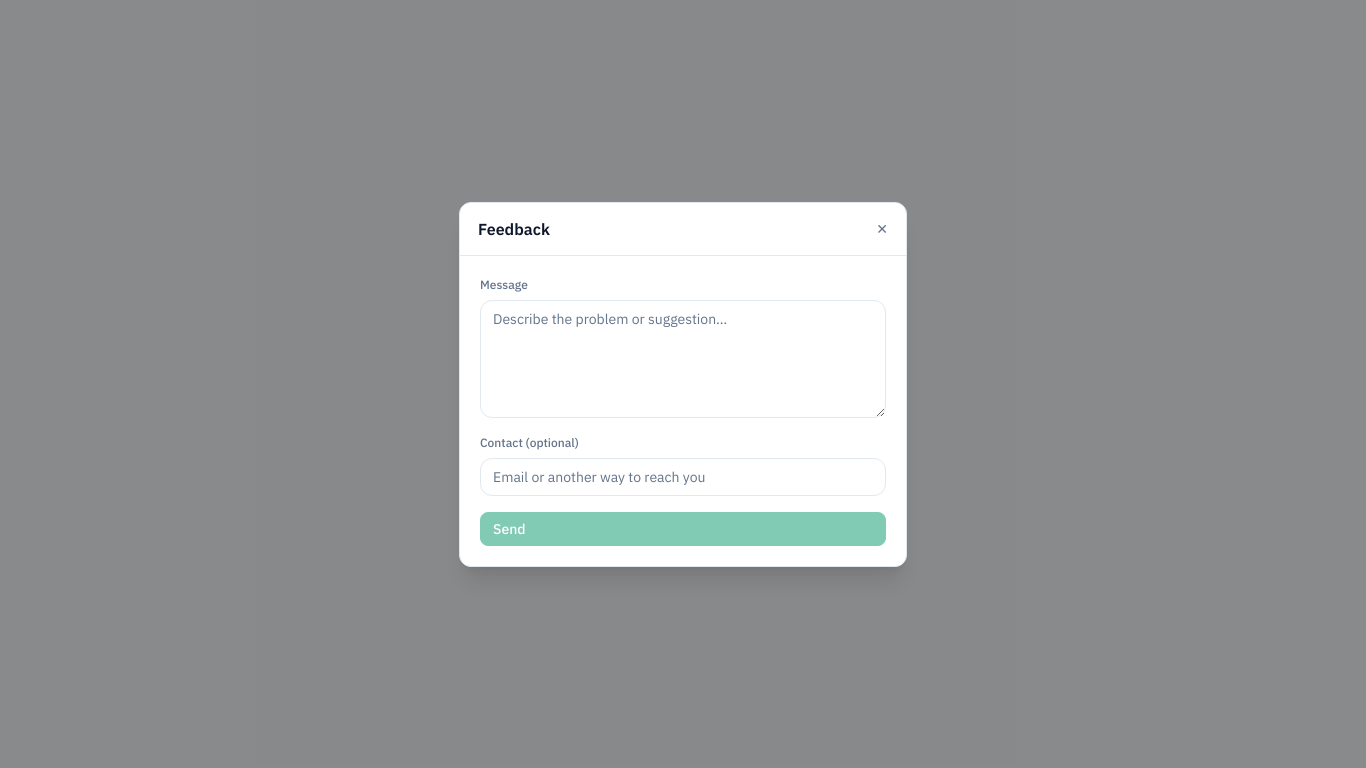
Test: FeedbackModal › sends the trimmed message with optional contact, then shows the sent state
Step 1. Type "  Excel export fails  " into the text box labelled "Message" → (683, 358), box [480,300,886,418]
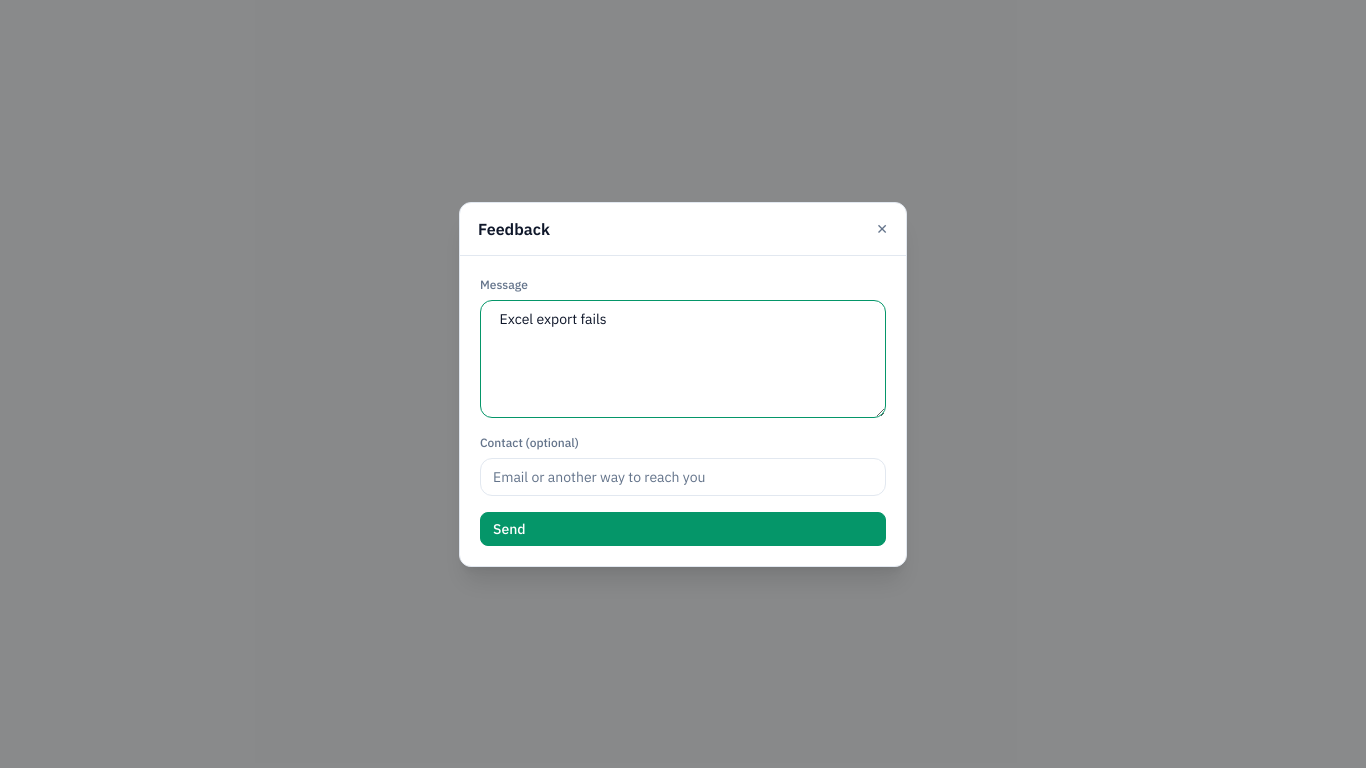
Step 2. Type "user@example.com" into the field labelled "Contact (optional)" → (683, 476), box [480,458,886,496]
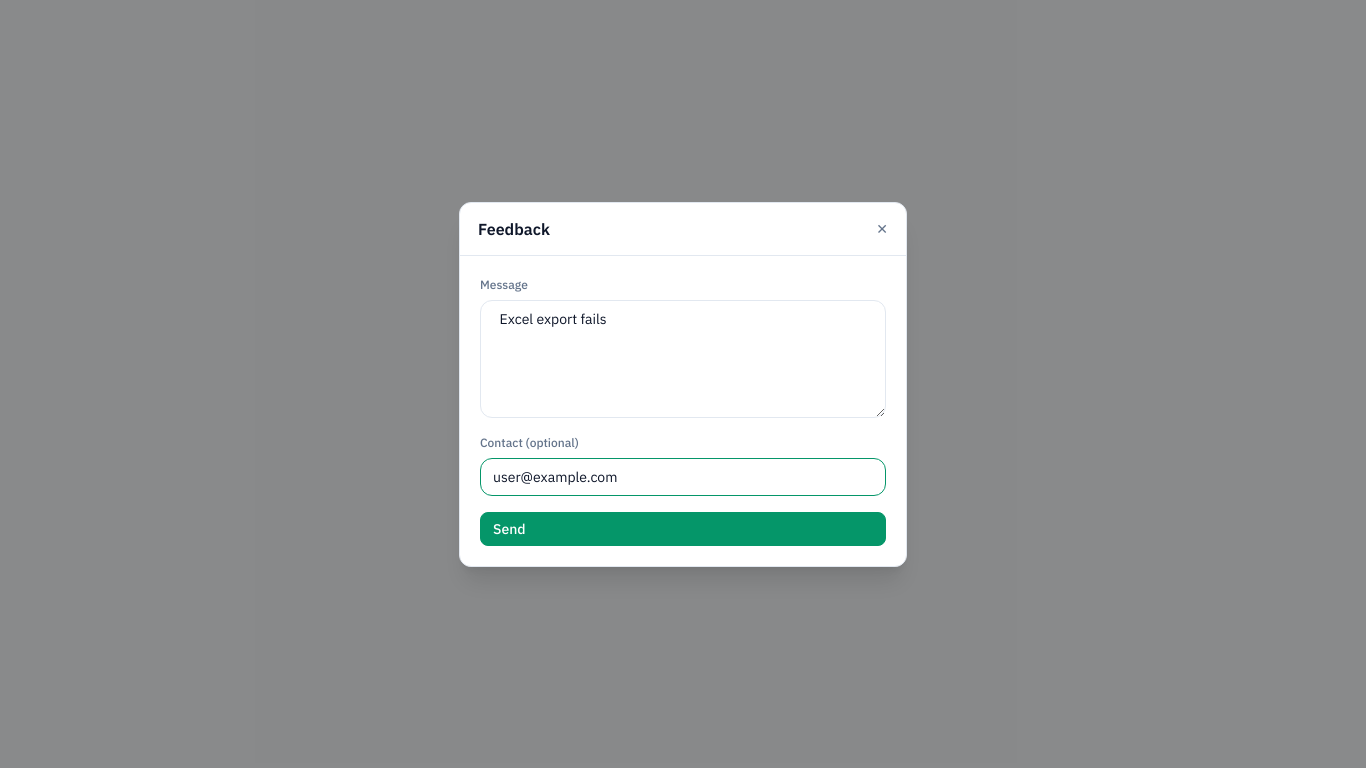
Step 3. Click the button "Send" → click(509, 528), box [480,512,886,546]
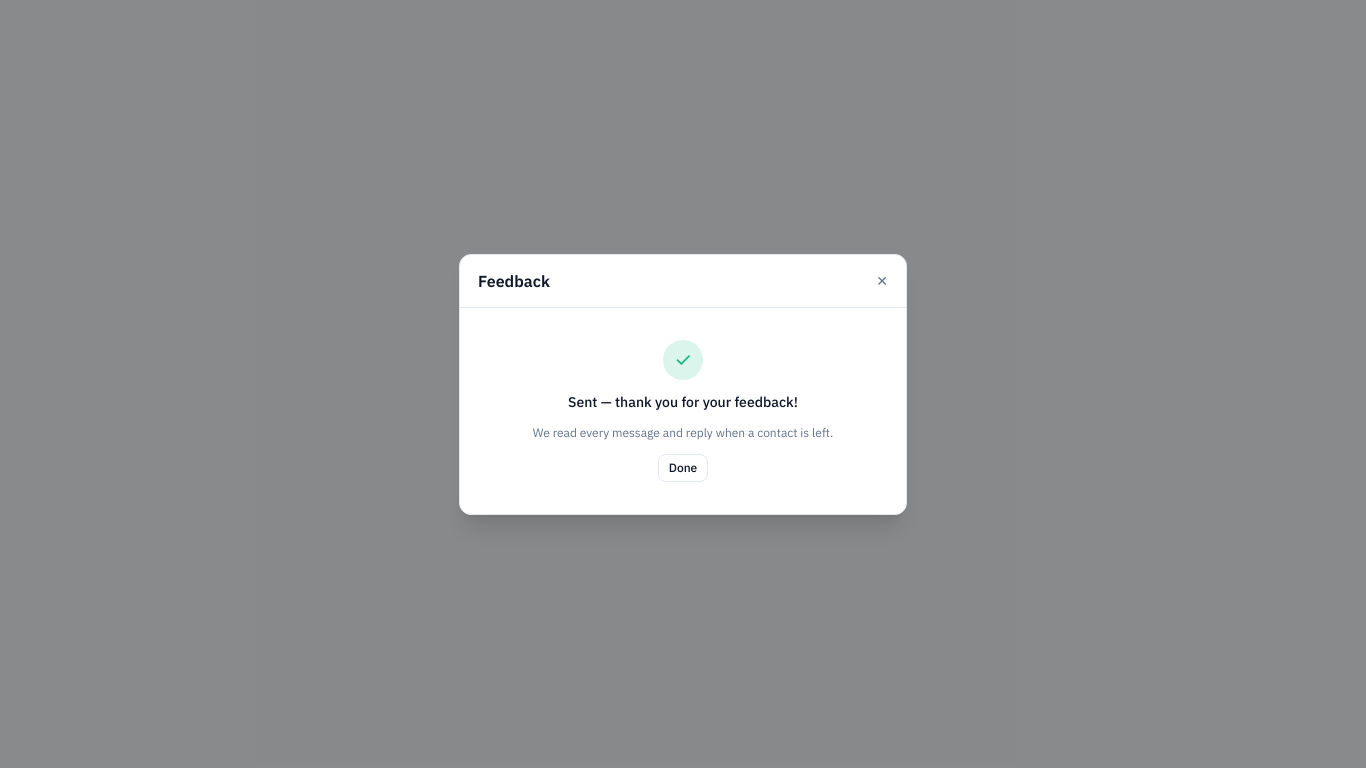
Check: the text "Sent — thank you for your feedback!" is shown, box [568,392,798,412]
